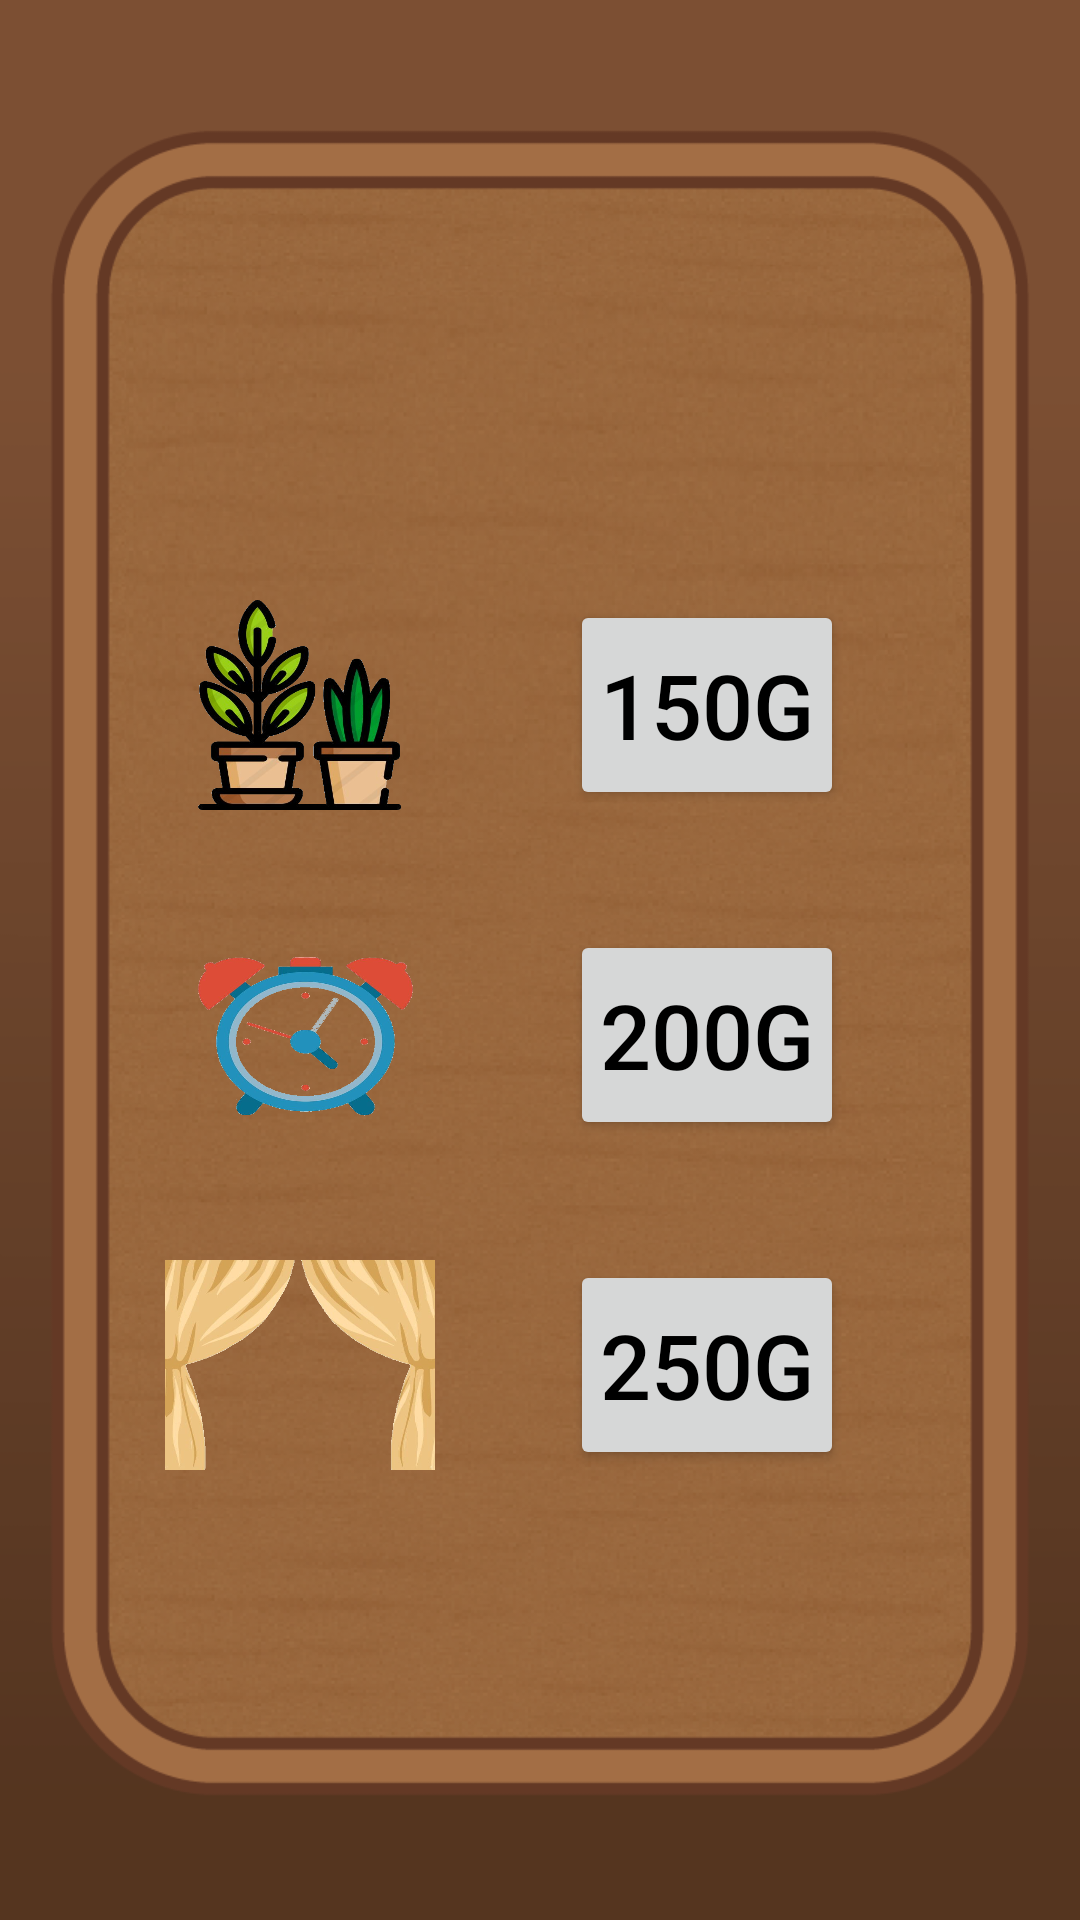

Named icons in this screenshot (1080w x 1920h) and their centers, [x,y]:
artifact clock: [305,1036]
artifact curtain: [300,1365]
artifact flowerpot: [299,705]
